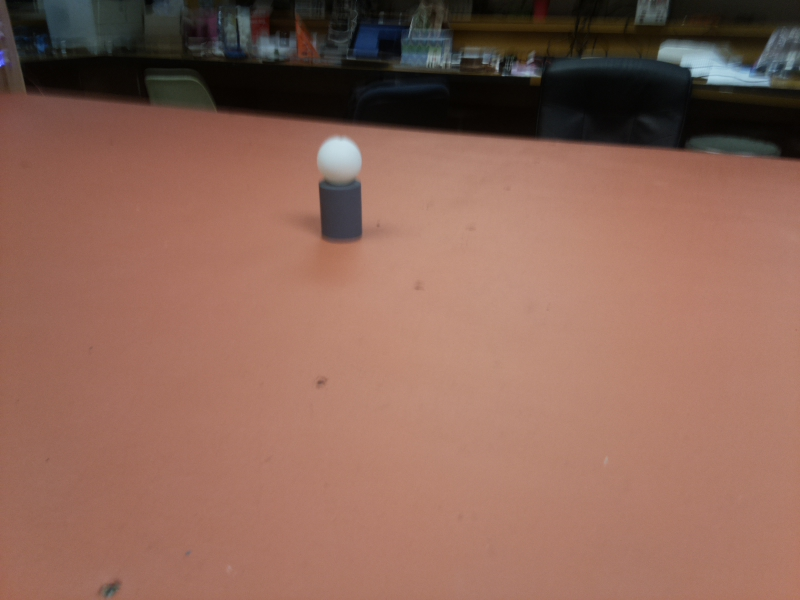obstacle: (316, 141, 364, 242)
